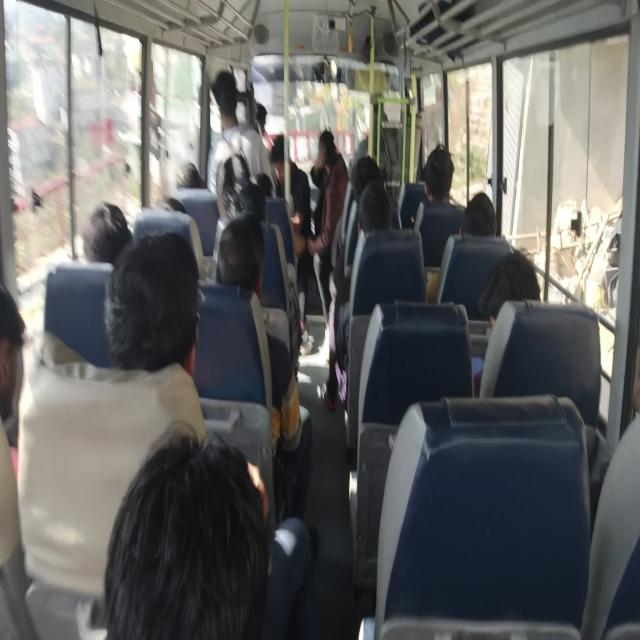person: (99, 430, 271, 637), (104, 231, 200, 375), (478, 252, 542, 323), (0, 277, 26, 450), (216, 212, 266, 294), (83, 202, 133, 268), (356, 179, 393, 237), (421, 144, 456, 204), (461, 191, 497, 237), (351, 154, 383, 205), (237, 180, 267, 223), (211, 70, 239, 114), (256, 101, 276, 155), (176, 162, 204, 190), (256, 172, 274, 200), (268, 136, 285, 162), (318, 130, 336, 154), (163, 197, 187, 214), (416, 163, 426, 186)
